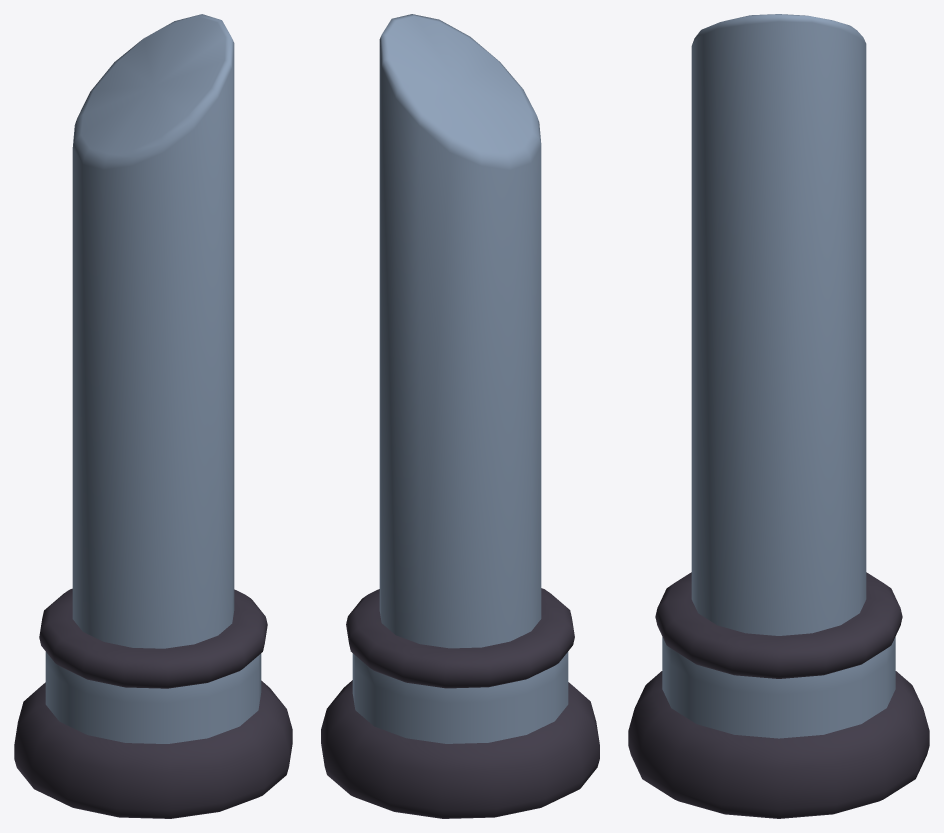
The model's file is column-3.dae.
The picture shows the model from 3 angles, left to right: view 1: azimuth 30°, elevation 25°; view 2: azimuth 150°, elevation 25°; view 3: azimuth 270°, elevation 25°; orthographic projection. The views are drawn at different scales.
Visible parts, largest first — view 1: Cylinder, Cylinder.002, Cylinder.003, Cylinder.001; view 2: Cylinder, Cylinder.002, Cylinder.003, Cylinder.001; view 3: Cylinder, Cylinder.002, Cylinder.003, Cylinder.001.
Part boxes in pixels (left/top/right/bottom): Cylinder: left=72, top=14, right=234, bottom=648; Cylinder.002: left=14, top=680, right=292, bottom=818; Cylinder.003: left=45, top=652, right=261, bottom=743; Cylinder.001: left=39, top=588, right=267, bottom=688; Cylinder: left=379, top=14, right=541, bottom=648; Cylinder.002: left=321, top=680, right=599, bottom=818; Cylinder.003: left=352, top=651, right=568, bottom=743; Cylinder.001: left=346, top=588, right=574, bottom=688; Cylinder: left=691, top=14, right=866, bottom=635; Cylinder.002: left=628, top=671, right=929, bottom=818; Cylinder.003: left=662, top=637, right=895, bottom=738; Cylinder.001: left=655, top=572, right=902, bottom=678.
Size of the model in its own units: 1.03 by 1.03 by 2.95.
